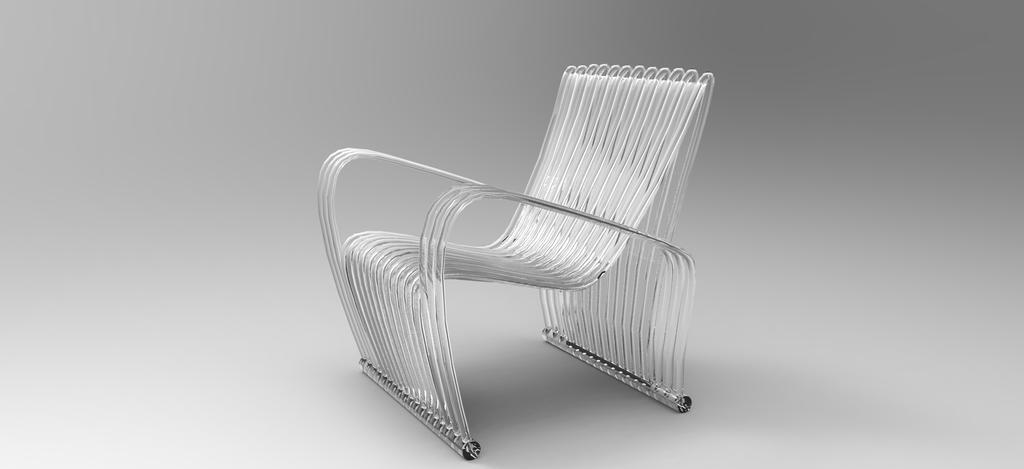Chair: (323, 66, 708, 458)
